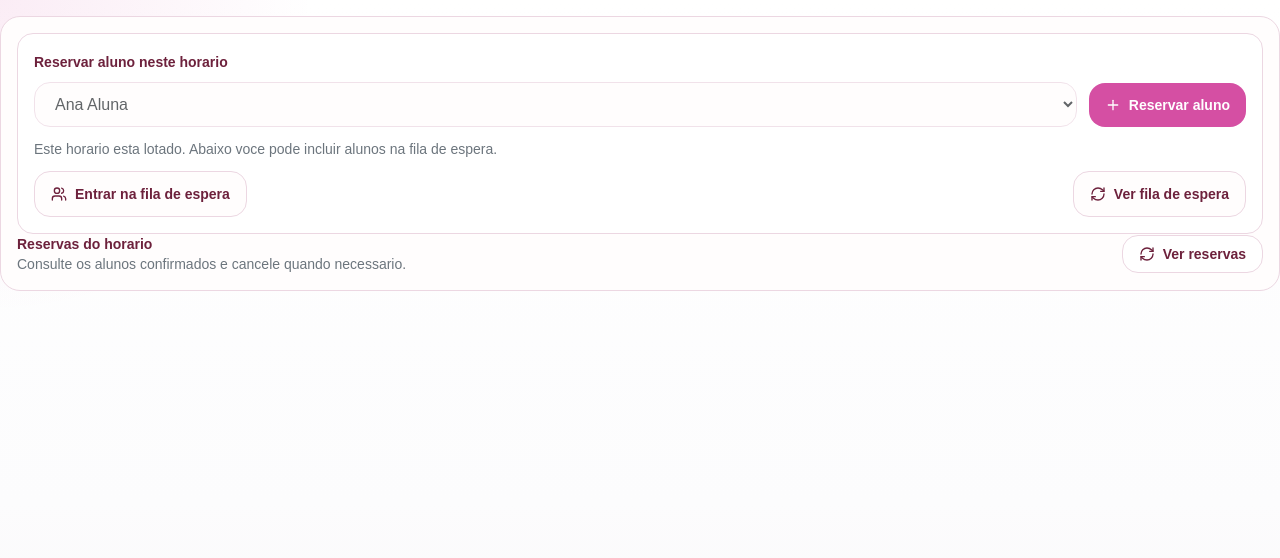
Scenario: SlotBookingsPanel › ignora clique duplo enquanto inclusao na fila esta em andamento
The width and height of the screenshot is (1280, 558).
Click the button "Entrar na fila de espera": (140, 194) [34,171,247,217]
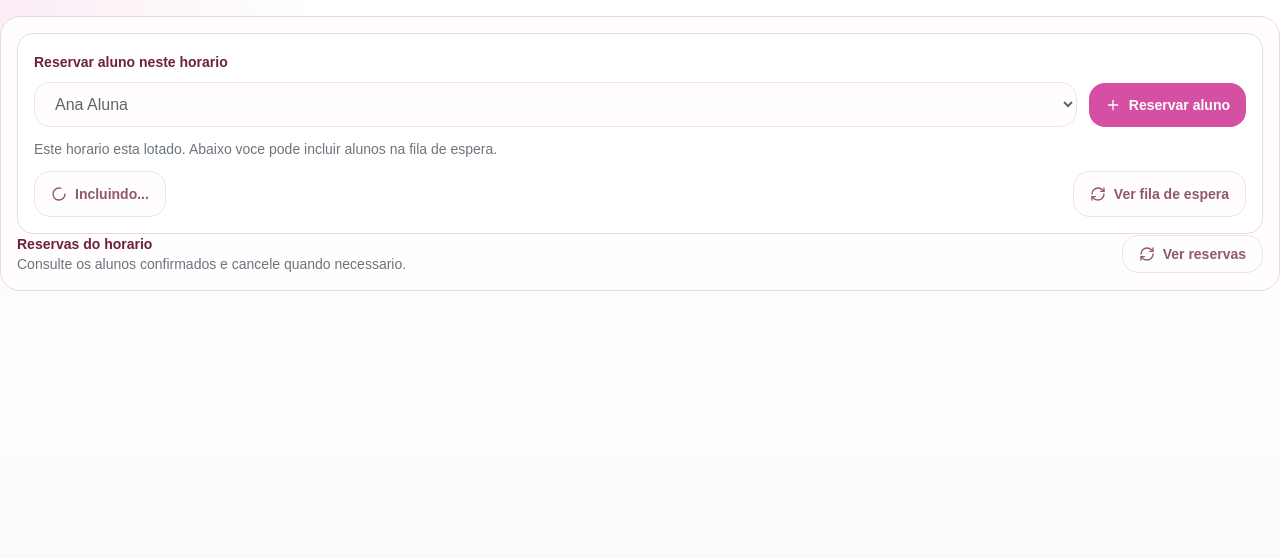
Click the button "Incluindo...": (100, 194) [34,171,166,217]
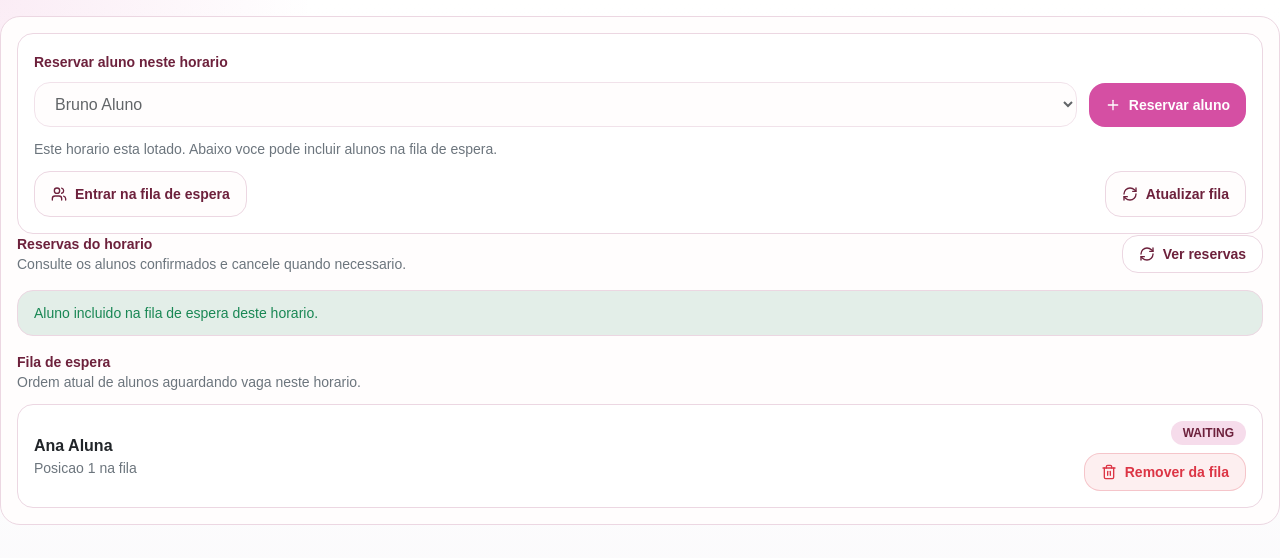
Now the text "Aluno incluido na fila de espera deste horario." is shown, box [17,290,1263,336]
